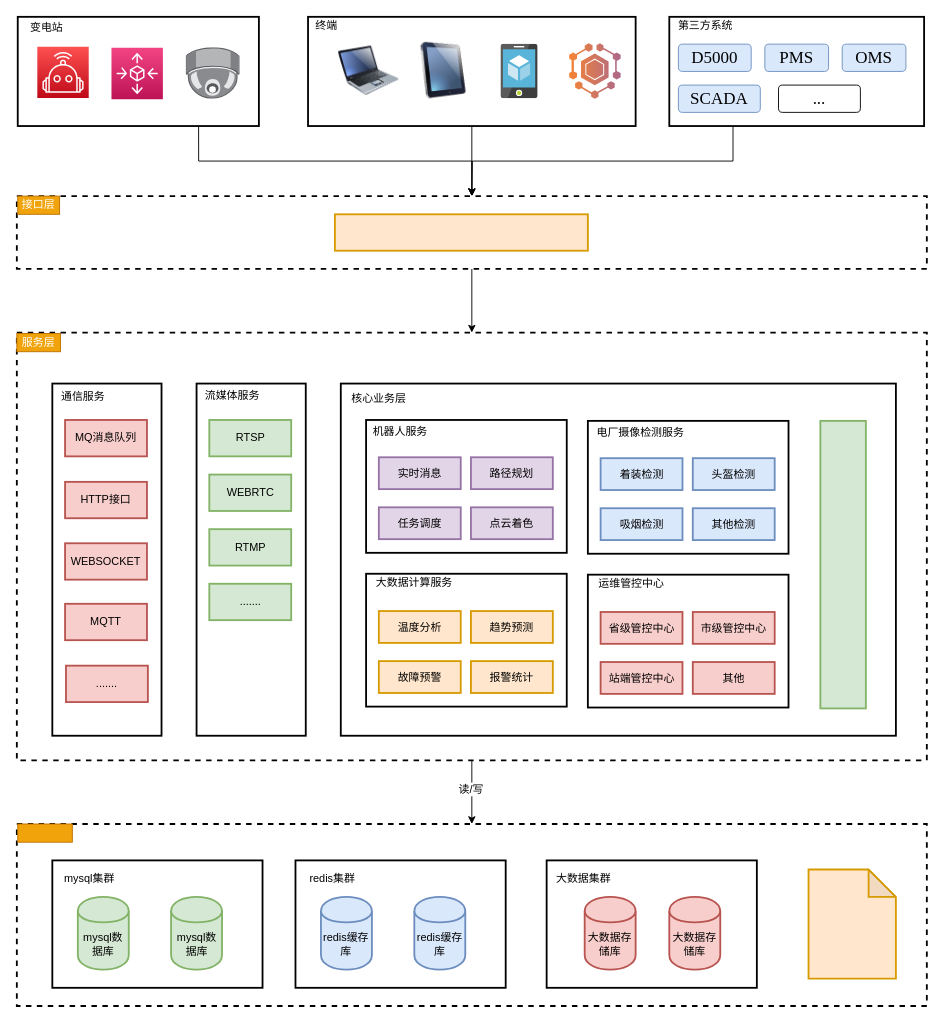
Image size: 943x1022. Some labels were removed from this diagram. The centre of each missing label's shape, as x and y in pixels:
API Gateway: the point at 461,232
PAD: the point at 443,70
PC: the point at 368,70
其它: the point at 594,70
巡检机器人: the point at 62,72
手机: the point at 519,71
摄像头: the point at 213,73
文件存储库: the point at 851,923
无人机: the point at 137,73
权 限 控 制: the point at 842,564
资源层: the point at 44,832
